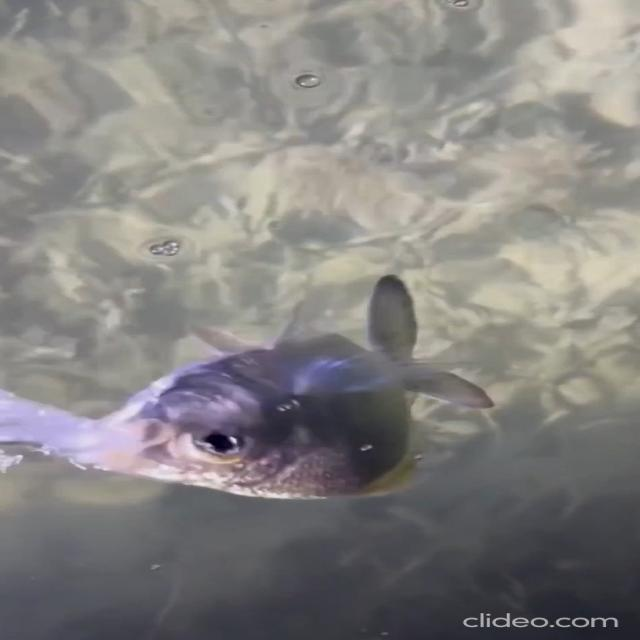fish: (45, 260, 568, 510)
